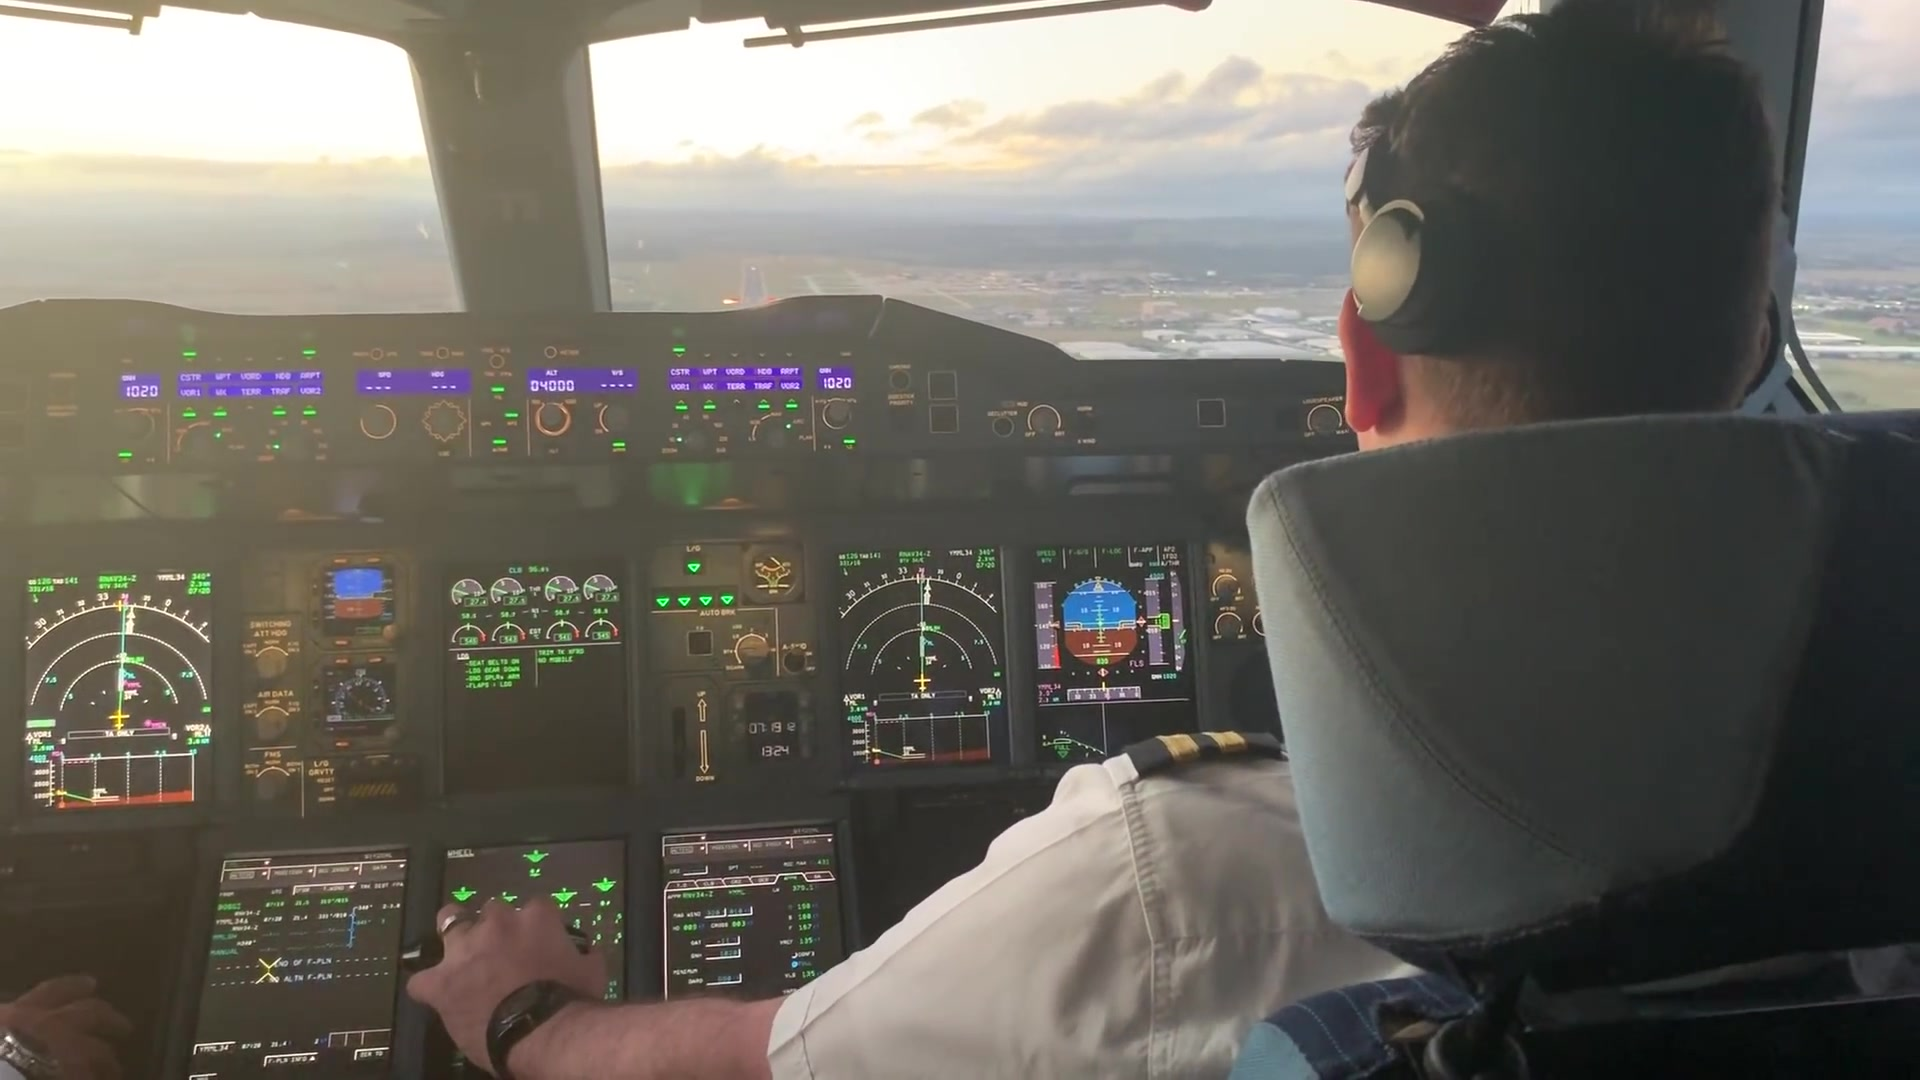runway: (738, 258, 767, 313)
